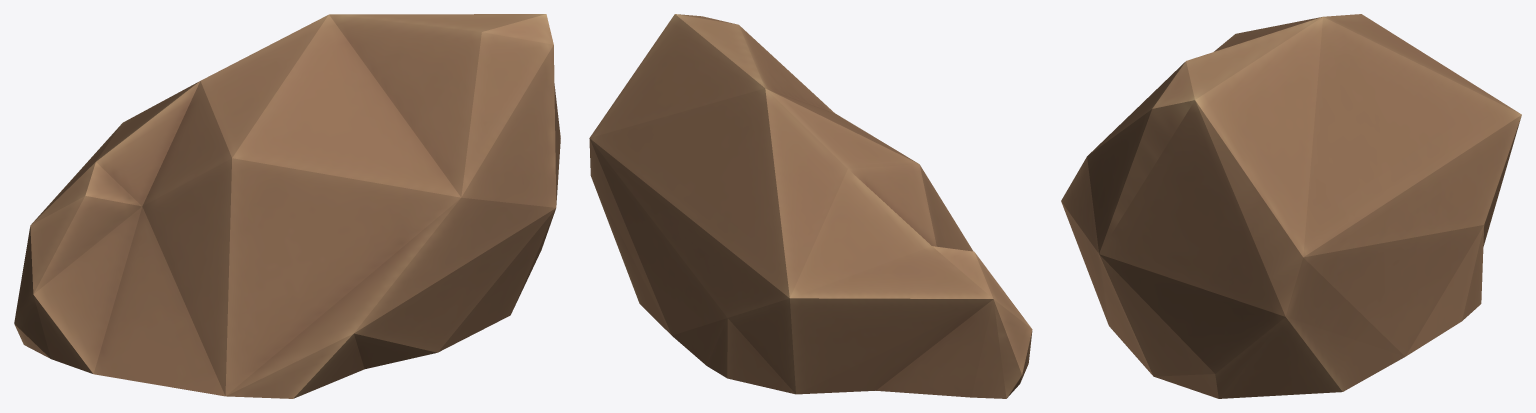
File: Rock_39.fbx
3 views of the same model, side by side, from view 1: azimuth 30°, elevation 25°; view 2: azimuth 150°, elevation 25°; view 3: azimuth 270°, elevation 25° (orthographic). The views are drawn at different scales.
Visible parts, largest first — view 1: Rock_39; view 2: Rock_39; view 3: Rock_39.
Part boxes in pixels (box(x1,y1,x2,y2)): Rock_39: box(14, 14, 560, 398); Rock_39: box(589, 14, 1032, 398); Rock_39: box(1061, 14, 1521, 398).
Bounding box in the file's own units: 53.01 × 26.97 × 36.59.
